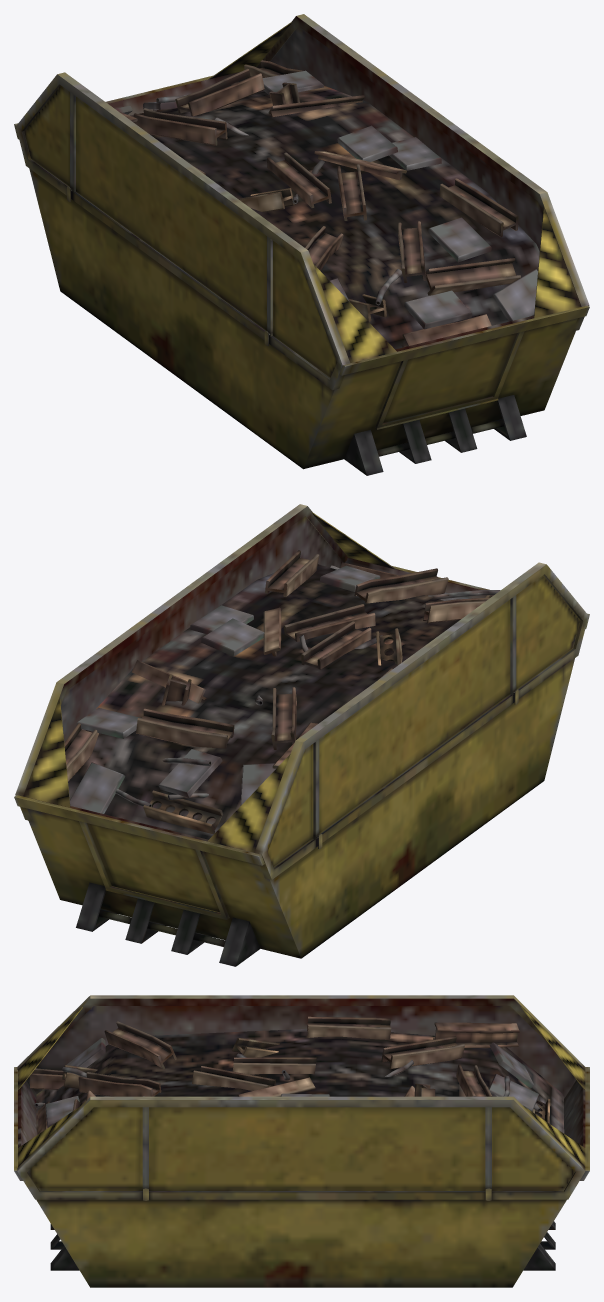
The model's file is sm22_108_dumpster02a.fbx.
3 renders of one model, top to bottom at view 1: azimuth 30°, elevation 25°; view 2: azimuth 150°, elevation 25°; view 3: azimuth 270°, elevation 25°, orthographic. The views are drawn at different scales.
Visible parts, largest first — view 1: LOD_1_Group_0_Sub_1__sm22_108_dumpster01A_A_Mat; view 2: LOD_1_Group_0_Sub_1__sm22_108_dumpster01A_A_Mat; view 3: LOD_1_Group_0_Sub_1__sm22_108_dumpster01A_A_Mat.
Part boxes in pixels (bbox=[...]): LOD_1_Group_0_Sub_1__sm22_108_dumpster01A_A_Mat: bbox=[14, 14, 589, 475]; LOD_1_Group_0_Sub_1__sm22_108_dumpster01A_A_Mat: bbox=[14, 504, 589, 966]; LOD_1_Group_0_Sub_1__sm22_108_dumpster01A_A_Mat: bbox=[14, 995, 589, 1287].
Bounding box in the file's own units: 1.97 × 1.64 × 4.52.
